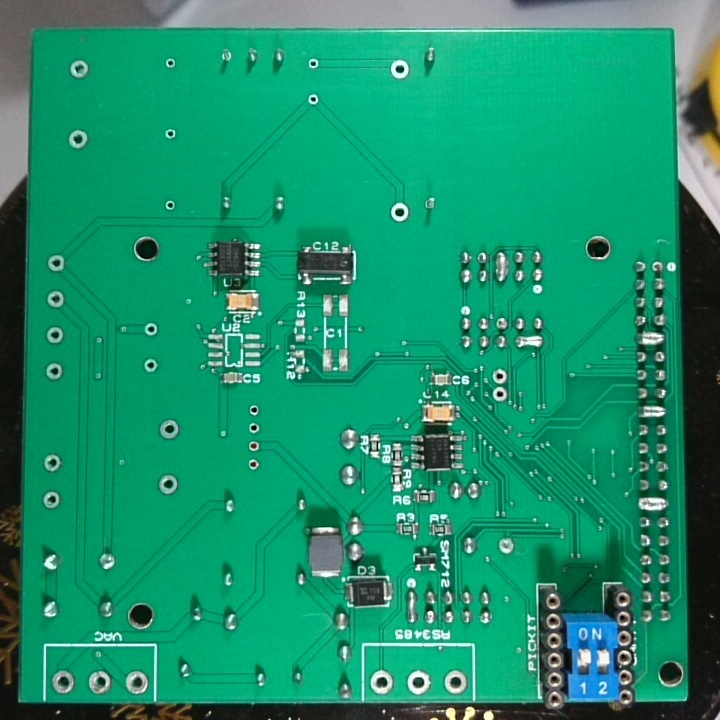F: (84, 667, 116, 699), (441, 668, 472, 698), (50, 666, 78, 699), (367, 667, 397, 697), (124, 667, 152, 698), (405, 667, 435, 695), (63, 127, 92, 152), (156, 470, 181, 498), (156, 416, 181, 443), (41, 487, 65, 515), (94, 549, 120, 574), (387, 199, 411, 226), (496, 532, 519, 560), (387, 58, 414, 81), (43, 288, 68, 312), (42, 360, 68, 383), (67, 57, 92, 80), (44, 252, 69, 275), (43, 325, 68, 347), (39, 452, 61, 475), (490, 383, 511, 404), (141, 355, 161, 376), (490, 366, 511, 385), (141, 320, 160, 340), (421, 193, 440, 212), (244, 455, 263, 474), (304, 55, 324, 73), (219, 46, 236, 67), (245, 435, 262, 455), (493, 315, 511, 332), (649, 258, 667, 275), (162, 195, 179, 213), (305, 90, 321, 107), (246, 401, 262, 418), (245, 420, 262, 436), (163, 126, 181, 140), (164, 55, 178, 73)
P: (635, 328, 667, 348), (493, 249, 510, 286), (404, 587, 419, 626), (637, 495, 669, 513), (515, 333, 544, 351), (636, 402, 667, 418)
